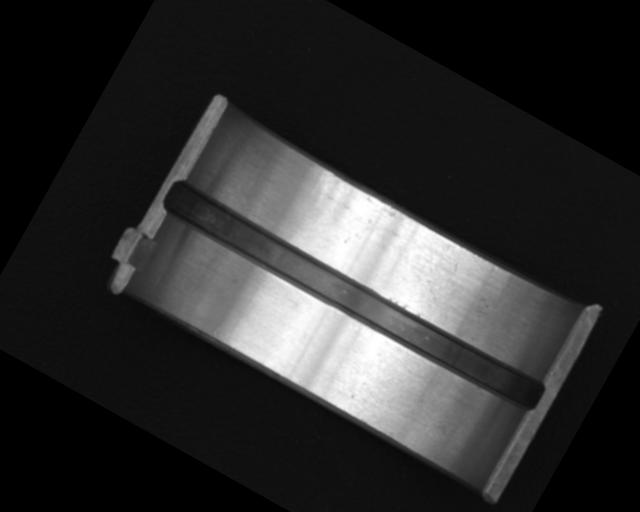gap: (155, 171, 551, 419)
